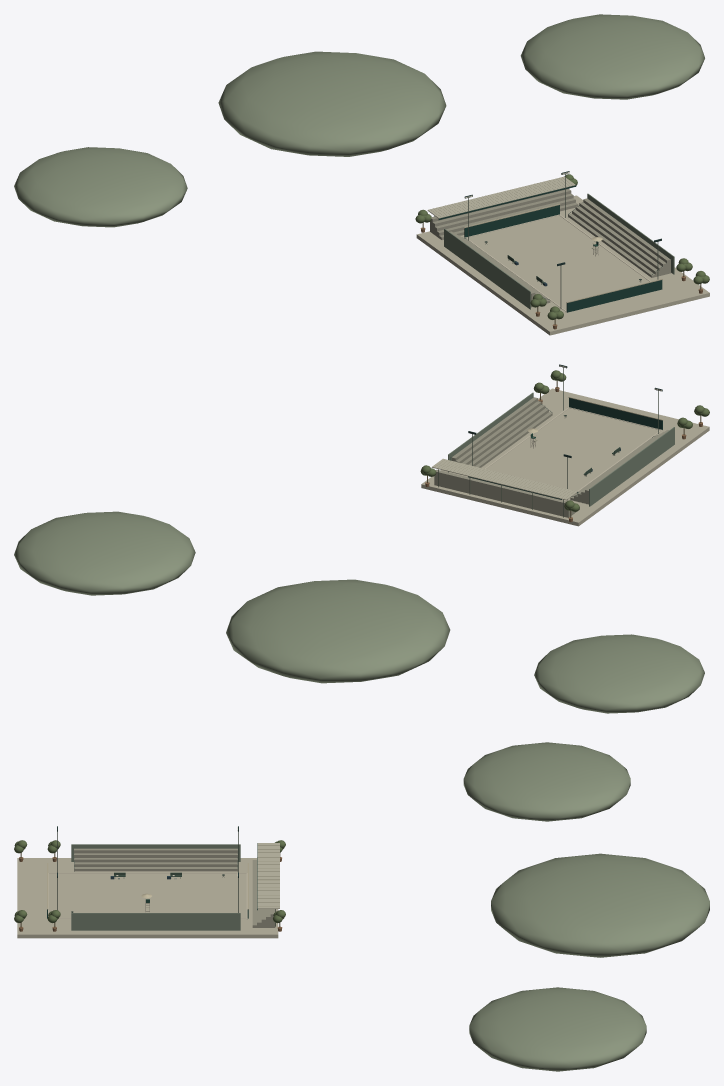
File: venue.glb
3 renders of one model, top to bottom at view 1: azimuth 30°, elevation 25°; view 2: azimuth 150°, elevation 25°; view 3: azimuth 270°, elevation 25°, orthographic. The views are drawn at different scales.
Visible parts, largest first — view 1: Venue vertex palette; view 2: Venue vertex palette; view 3: Venue vertex palette.
Part boxes in pixels (x1,y1,x2,y2): Venue vertex palette: [14, 14, 709, 335]; Venue vertex palette: [14, 364, 709, 713]; Venue vertex palette: [14, 742, 709, 1071].
Size of the model in its own units: 142 by 15.8 by 131.
